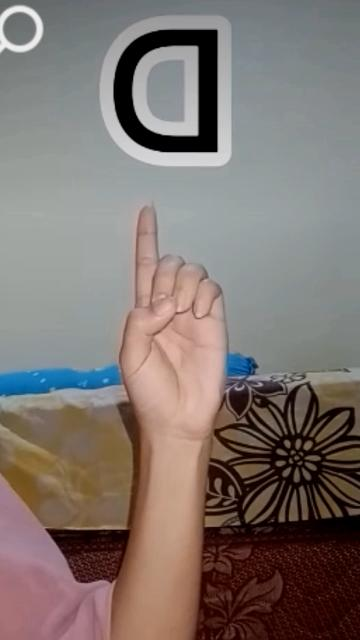D: (118, 196, 229, 449)
